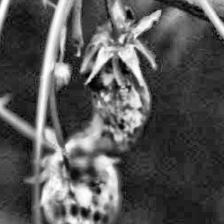Gray Mold: (80, 19, 153, 154)
